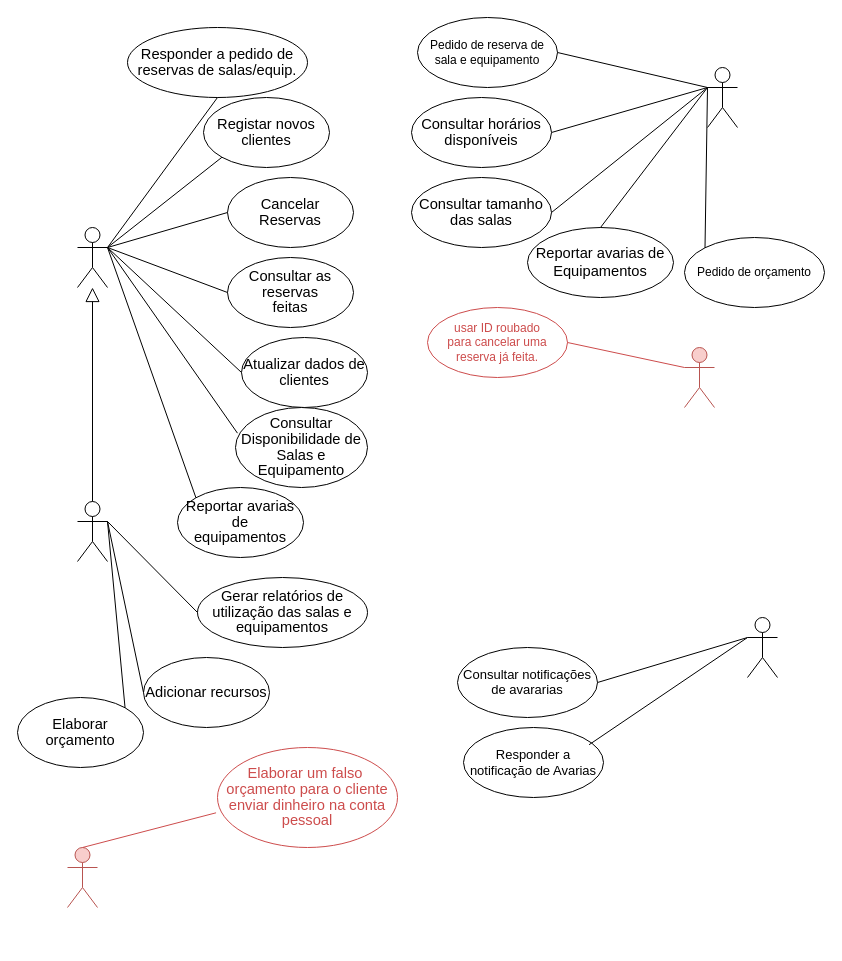
Image size: 842x961. Some labels were removed from this diagram. The shapes that lost their labels are listed below. From the top down, each one's centre as x and y in pixels, then its label:
At point (722, 97): "pedido do cliente".
At point (92, 257): "Rececionista".
At point (699, 377): "ator falso".
At point (92, 531): "Gestor".
At point (762, 647): "Técnico de manutenção".
At point (82, 877): "Funcionário desonesto".
